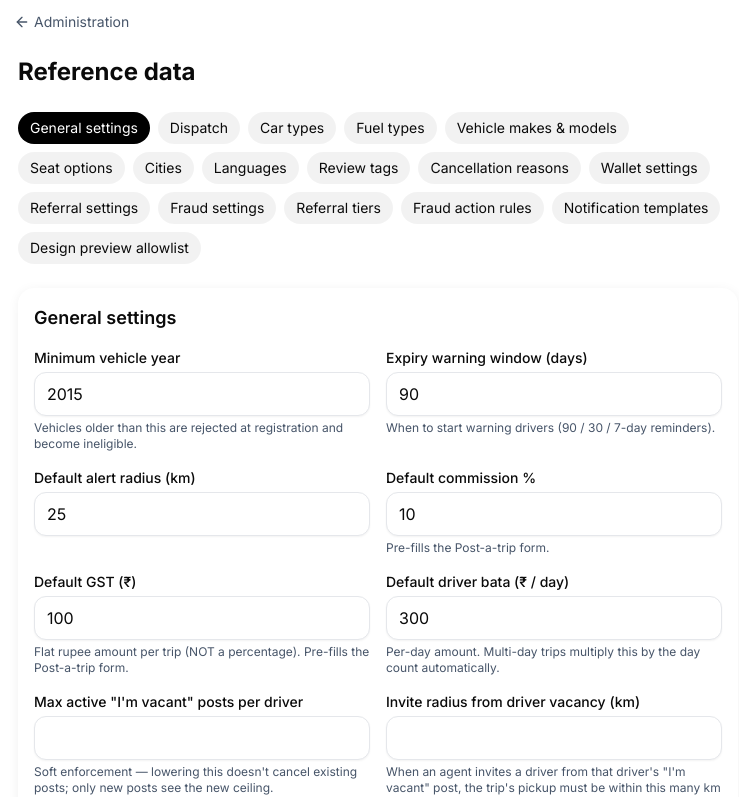
Scenario: AdminConfigPage › Cities / Languages / Seat options / Cancellation reasons render without crashing
The width and height of the screenshot is (739, 797).
Click the button "Cities".
click(163, 168)  # box [133, 152, 194, 184]
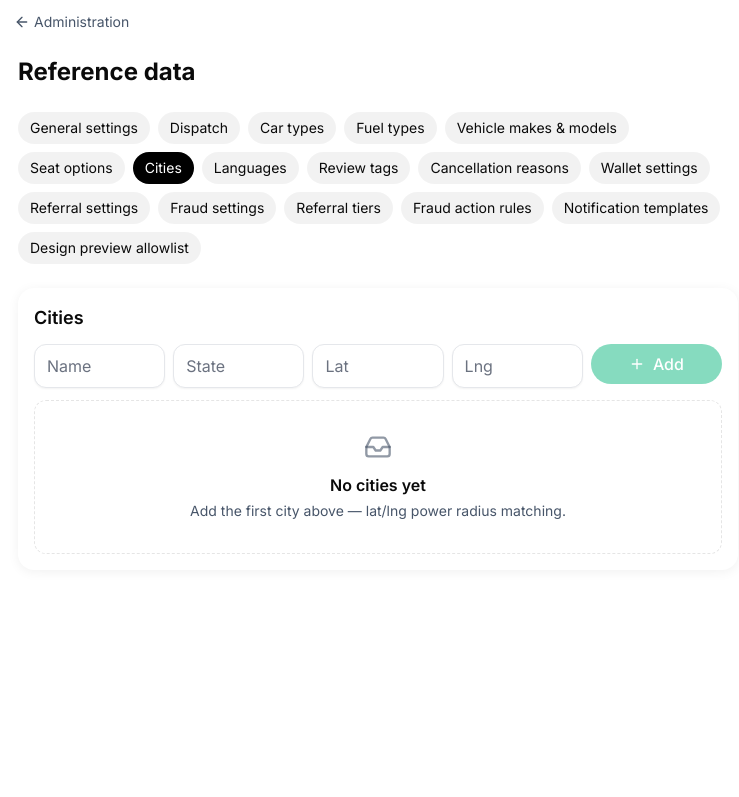
Result: the heading "Cities" is shown at [34, 307, 84, 328]
Click the button "Languages".
click(250, 168)  # box [202, 152, 299, 184]
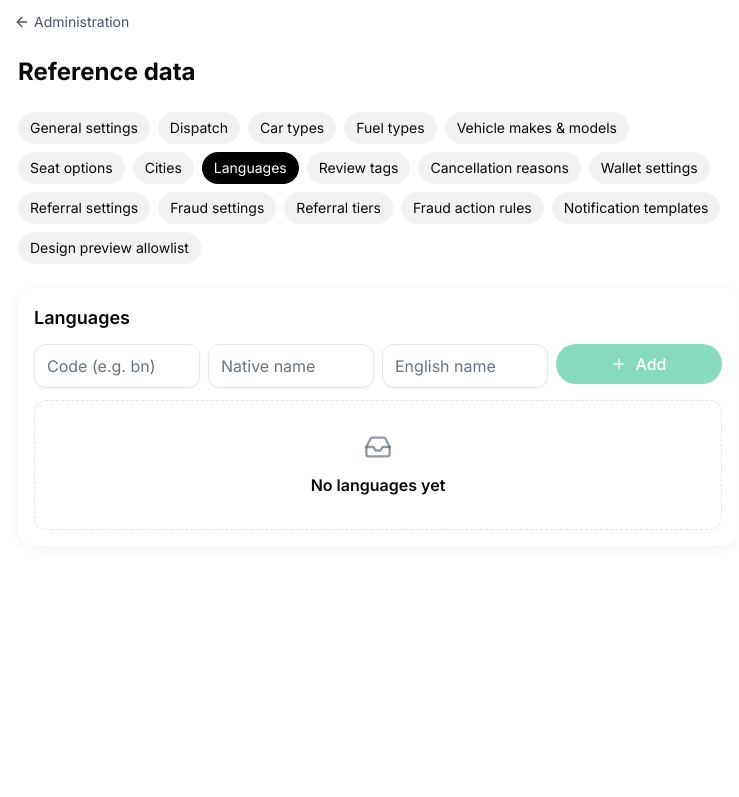
Result: the heading "Languages" is shown at [34, 307, 130, 328]
Click the button "Seat options".
click(71, 168)  # box [18, 152, 125, 184]
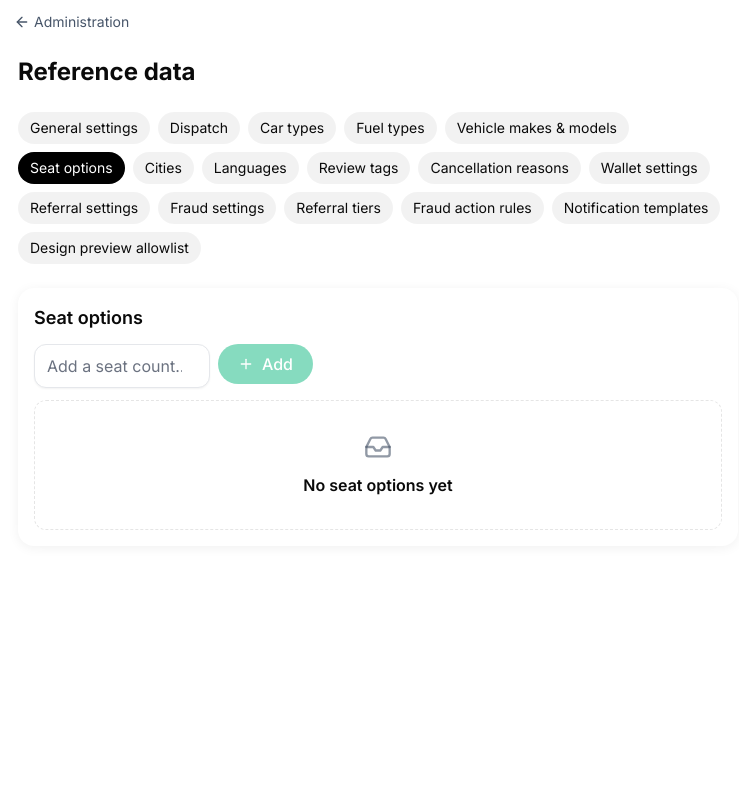
Result: the heading "Seat options" is shown at [34, 307, 143, 328]
Click the button "Cancellation reasons".
click(500, 168)  # box [418, 152, 581, 184]
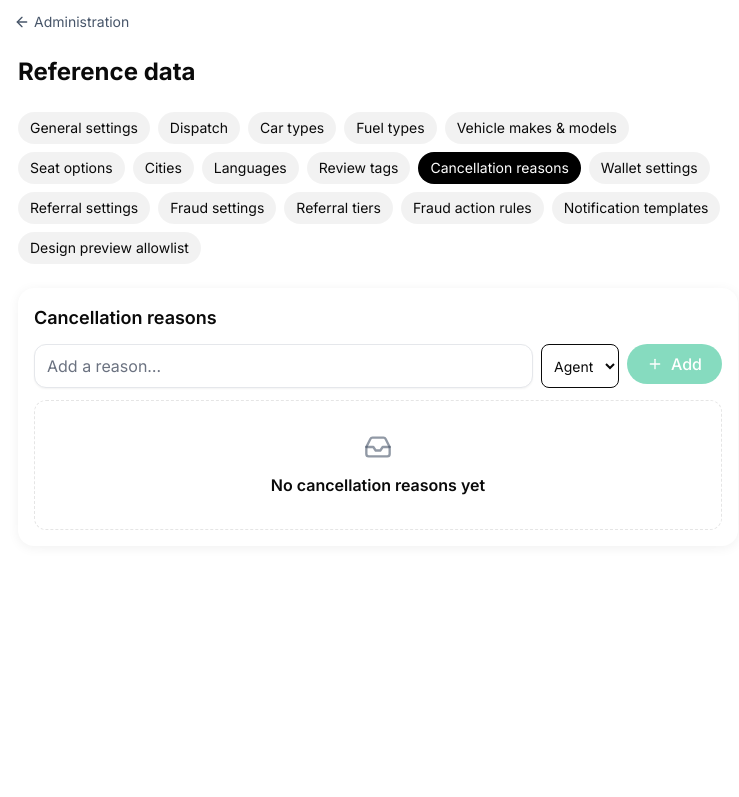
Result: the heading "Cancellation reasons" is shown at [34, 307, 217, 328]
